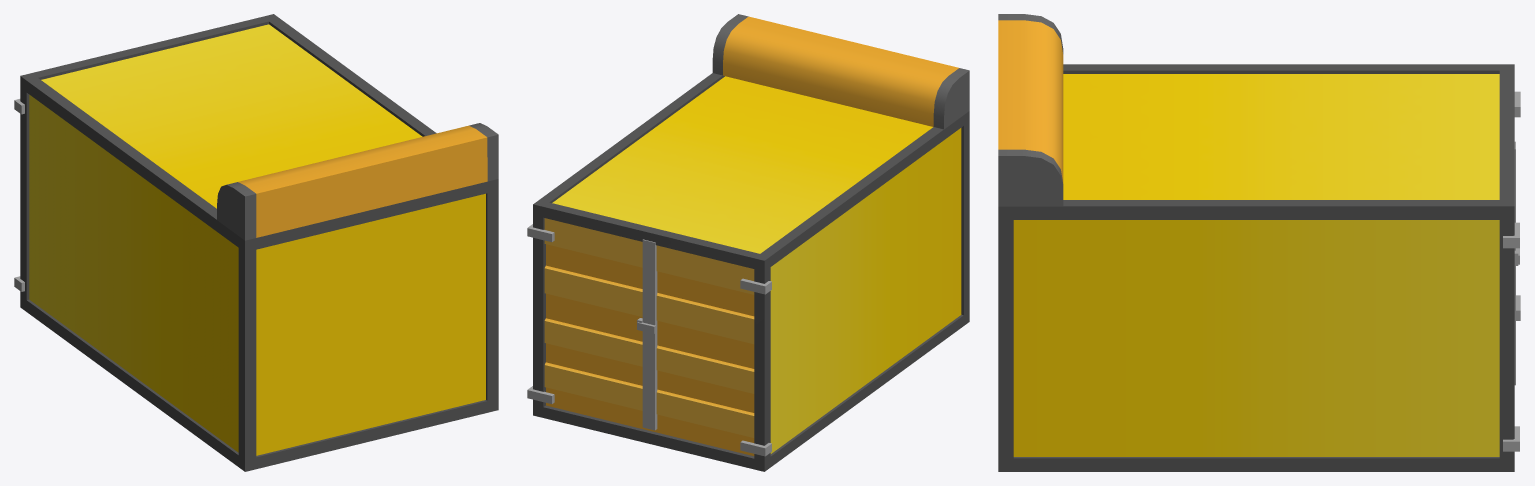
Rendered from Trailer_3_lvl1.fbx.
The picture shows the model from 3 angles, left to right: view 1: azimuth 30°, elevation 25°; view 2: azimuth 150°, elevation 25°; view 3: azimuth 270°, elevation 25°; orthographic projection. The views are drawn at different scales.
Parts seen in each view (by area): view 1: Box052; view 2: Box052; view 3: Box052.
Part boxes in pixels (<box>): Box052: <box>14,14,498,471</box>; Box052: <box>527,14,969,471</box>; Box052: <box>998,14,1520,471</box>.
Size of the model in its own units: 3866 by 3895 by 5831.
